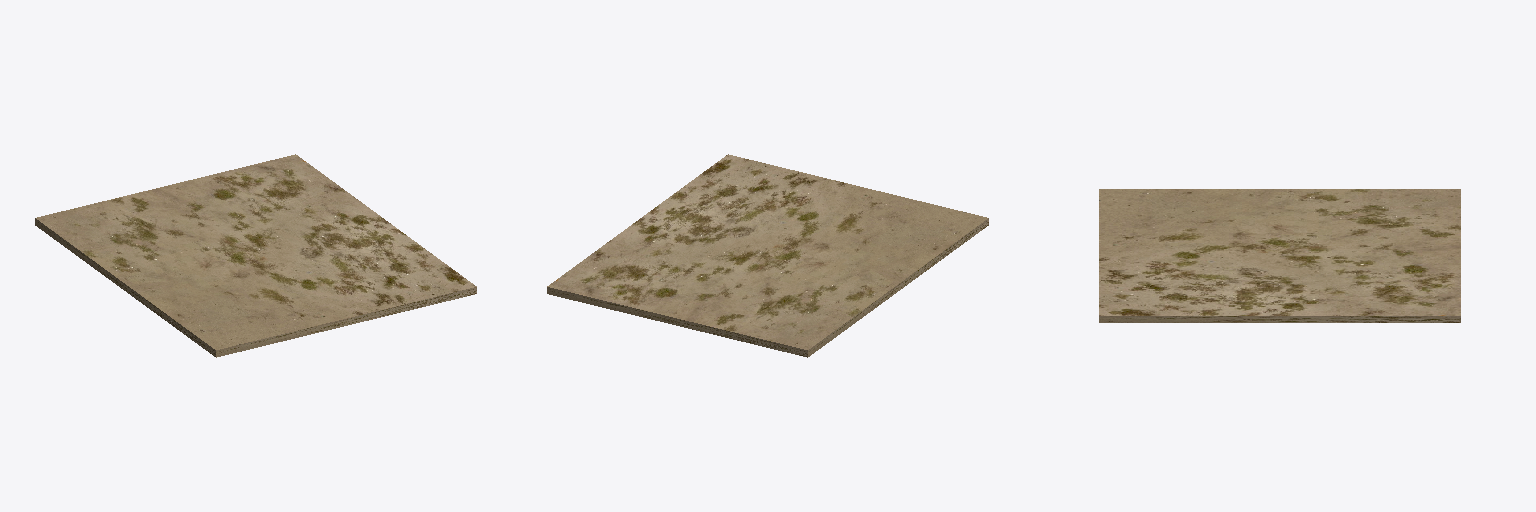
3 renders of one model, left to right at view 1: azimuth 30°, elevation 25°; view 2: azimuth 150°, elevation 25°; view 3: azimuth 270°, elevation 25°, orthographic.
Parts seen in each view (by area): view 1: Box001; view 2: Box001; view 3: Box001.
Boxes of the visible parts, x1=… form: Box001: x1=35, y1=154, x2=476, y2=357; Box001: x1=547, y1=154, x2=988, y2=357; Box001: x1=1099, y1=189, x2=1460, y2=322.
Bounding box in the file's own units: 5589 × 150 × 6714.
Materials: 1 (1 with a texture image).